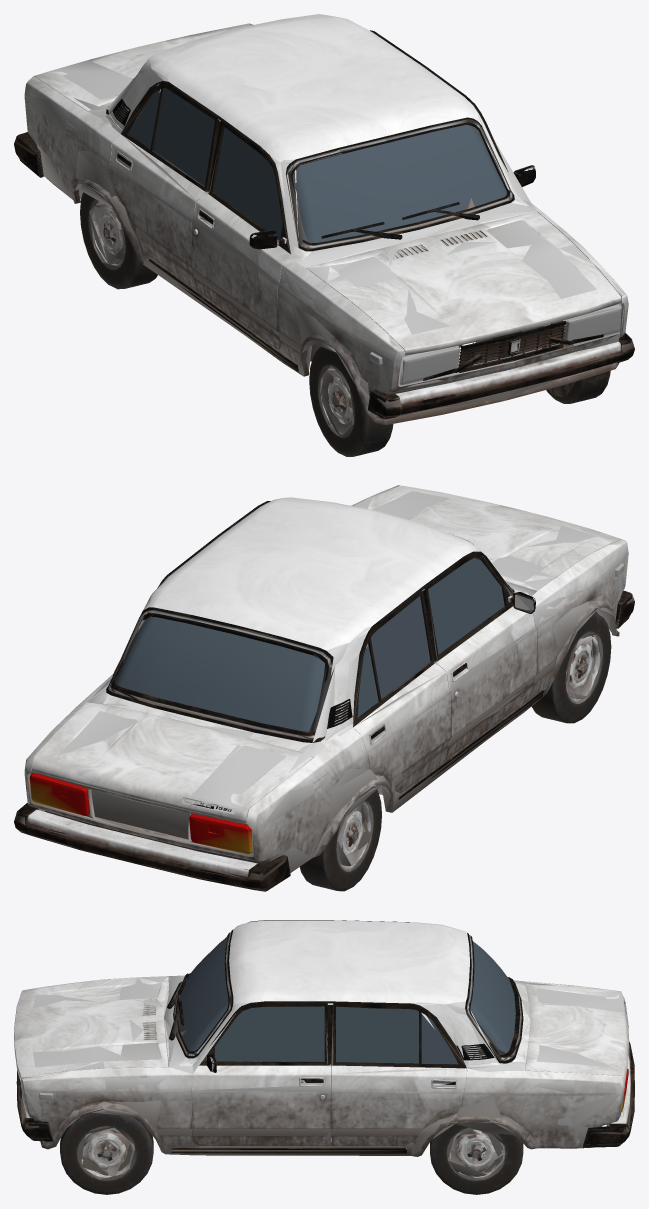
File: vaz2105.glb
3 views of the same model, one above another, from view 1: azimuth 30°, elevation 25°; view 2: azimuth 150°, elevation 25°; view 3: azimuth 270°, elevation 25° (orthographic). The views are drawn at different scales.
Parts seen in each view (by area): view 1: hi, mid, hi_glass, lo, hi_lamp; view 2: hi, hi_glass, mid, lo, hi_lamp; view 3: hi, mid, hi_glass, lo.
Part boxes in pixels (left/top/right/bottom): hi: left=14, top=14, right=634, bottom=456; mid: left=14, top=59, right=634, bottom=442; hi_glass: left=128, top=75, right=506, bottom=242; lo: left=59, top=73, right=620, bottom=436; hi_lamp: left=370, top=303, right=621, bottom=385; hi: left=14, top=486, right=634, bottom=891; hi_glass: left=116, top=558, right=504, bottom=731; mid: left=14, top=485, right=634, bottom=891; lo: left=31, top=551, right=613, bottom=870; hi_lamp: left=29, top=563, right=624, bottom=854; hi: left=14, top=920, right=634, bottom=1194; mid: left=17, top=926, right=633, bottom=1180; hi_glass: left=178, top=936, right=515, bottom=1063; lo: left=26, top=936, right=629, bottom=1176.
Size of the model in its own units: 1.77 by 1.44 by 4.13.
2 materials, 1 textured.
